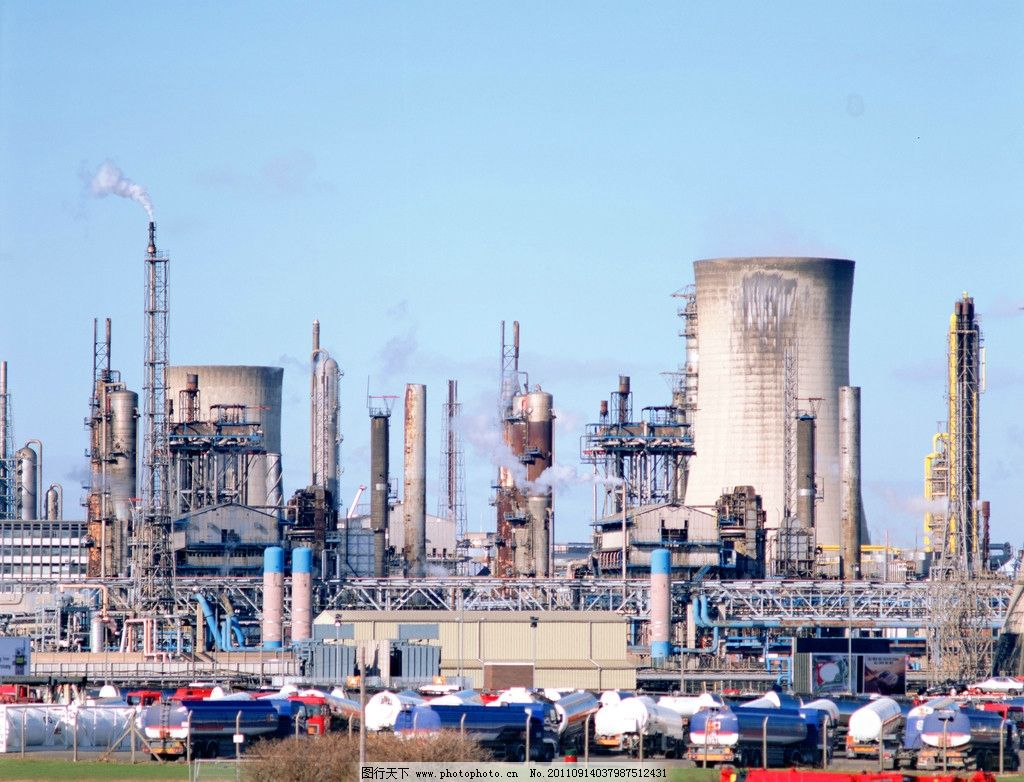dust: (434, 409, 641, 503), (66, 156, 182, 233)
